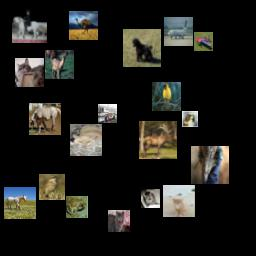airplane: (164, 17, 193, 46), (194, 32, 213, 51)
bird: (191, 146, 229, 184), (69, 11, 98, 40), (152, 82, 181, 111), (39, 174, 65, 200)
cat: (163, 185, 195, 217), (70, 124, 102, 156), (15, 58, 44, 87), (108, 210, 130, 232), (141, 189, 160, 208)
deer: (139, 121, 177, 159), (45, 50, 74, 79)
dog: (123, 29, 161, 67), (182, 111, 198, 127)
frog: (66, 196, 88, 218)
truck: (98, 104, 117, 123)
